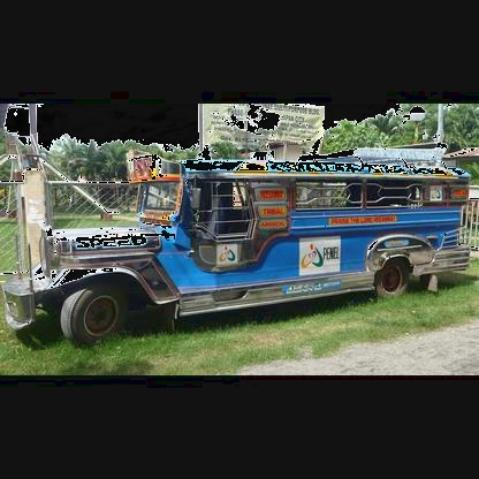jeepney: (6, 148, 472, 342)
